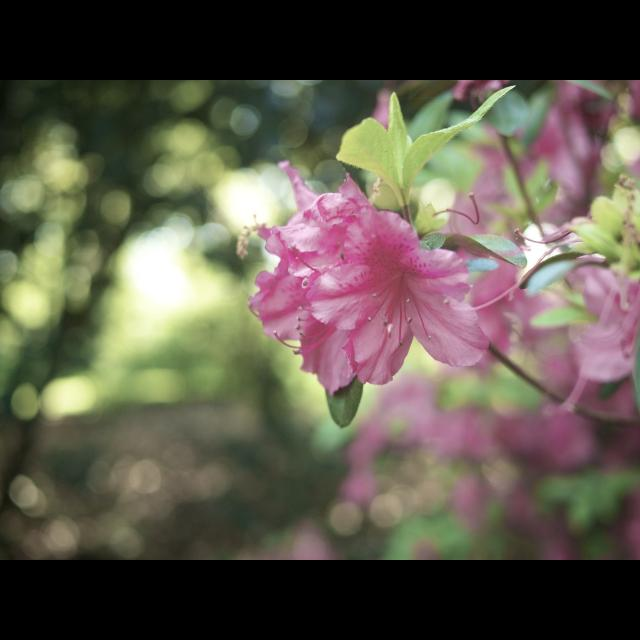Flower: (247, 159, 418, 395), (307, 208, 493, 384)
